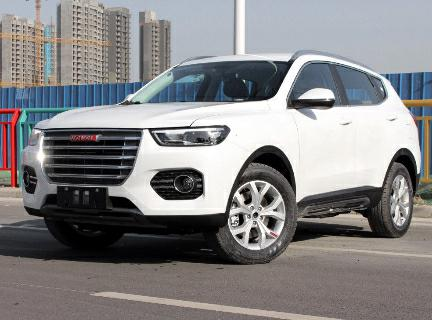哈弗-H6: (15, 50, 428, 269)
